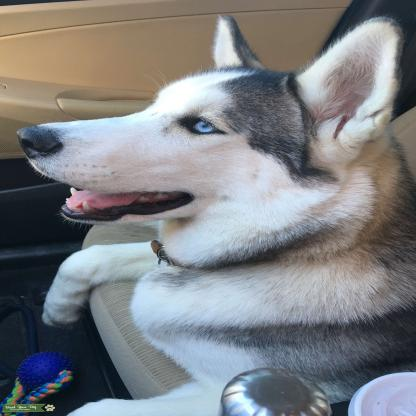husky: (11, 20, 416, 416)
